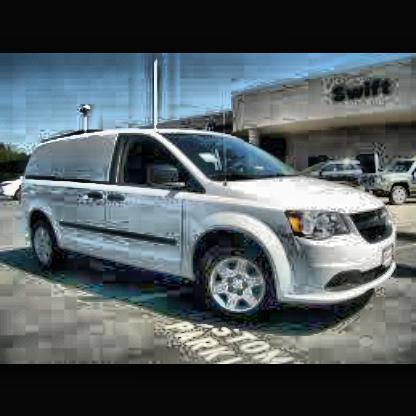Ram C-V Cargo Van Minivan 2012: (10, 130, 400, 322)
